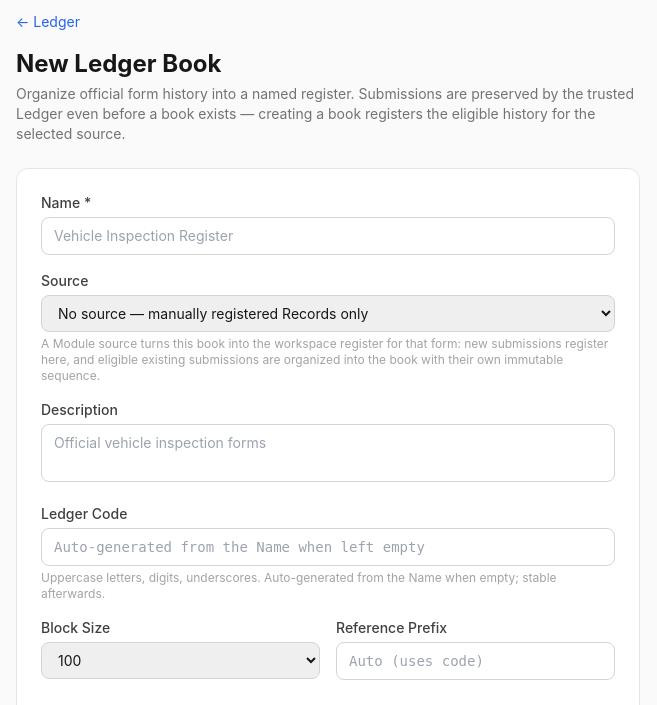
Test: CreateLedgerBookPage › offers only non-draft Modules as sources and pre-fills from the selection
Select "Vehicle Inspection (VEHINS)" in the dropdown labelled "Source" at coordinates (328, 314), box x1=41 y1=295 x2=615 y2=332
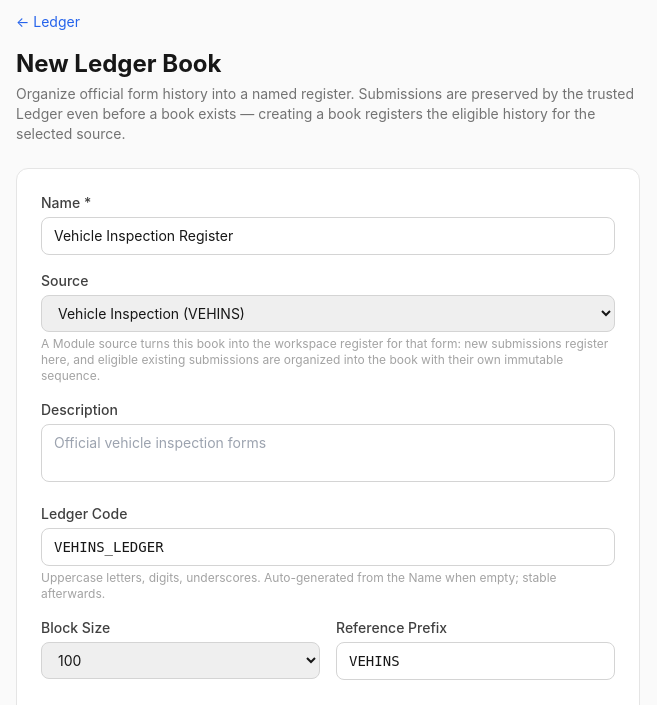
Expected: the field labelled "Name *" holds "Vehicle Inspection Register", x1=41 y1=217 x2=615 y2=255
Expected: the field labelled "Reference Prefix" holds "VEHINS", x1=336 y1=642 x2=615 y2=680
Expected: the field labelled "Ledger Code" holds "VEHINS_LEDGER", x1=41 y1=528 x2=615 y2=566
